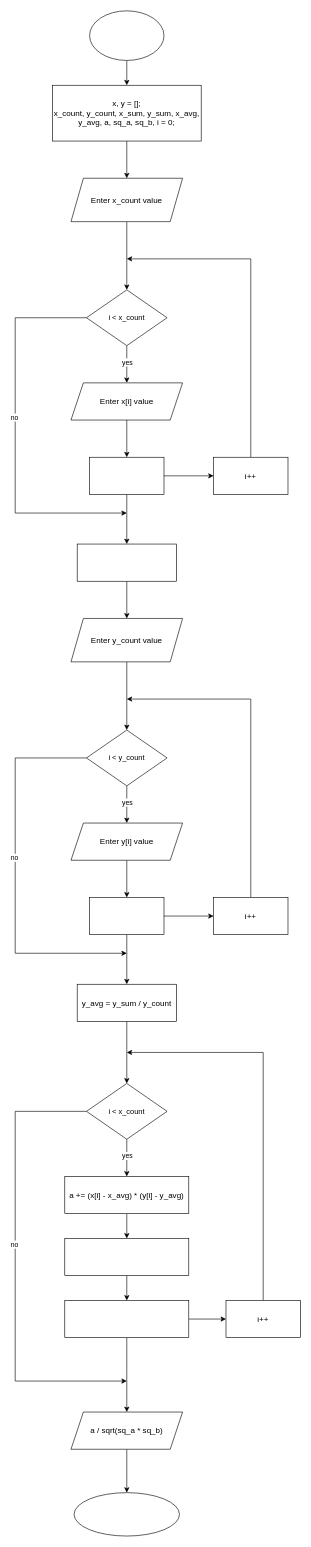
The diagram is 311 pixels wide and 1547 high, and some of its shapes have lost their labels. Here are the shapes that lost their labels. From the top down, the centre of each, then its label:
At point (126, 35): "Start".
At point (126, 475): "x_sum += x[i];".
At point (126, 562): "x_avg = x_sum / x_count".
At point (126, 916): "y_sum += y[i];".
At point (126, 1257): "sq_a += pow(x[i] - x_avg, 2)".
At point (126, 1319): "sq_b += pow(y[i] - y_avg, 2)".
At point (126, 1514): "End".
